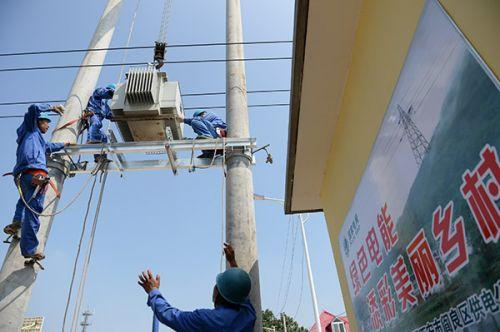boots: (4, 221, 21, 235), (23, 251, 45, 259), (94, 155, 112, 162)
hard-hat: (216, 267, 252, 305), (37, 112, 51, 122), (193, 108, 206, 116), (106, 83, 116, 89)
person: (3, 102, 72, 260), (137, 242, 257, 332), (81, 82, 118, 163), (178, 108, 228, 157)
ppe-suit: (4, 102, 71, 261)
